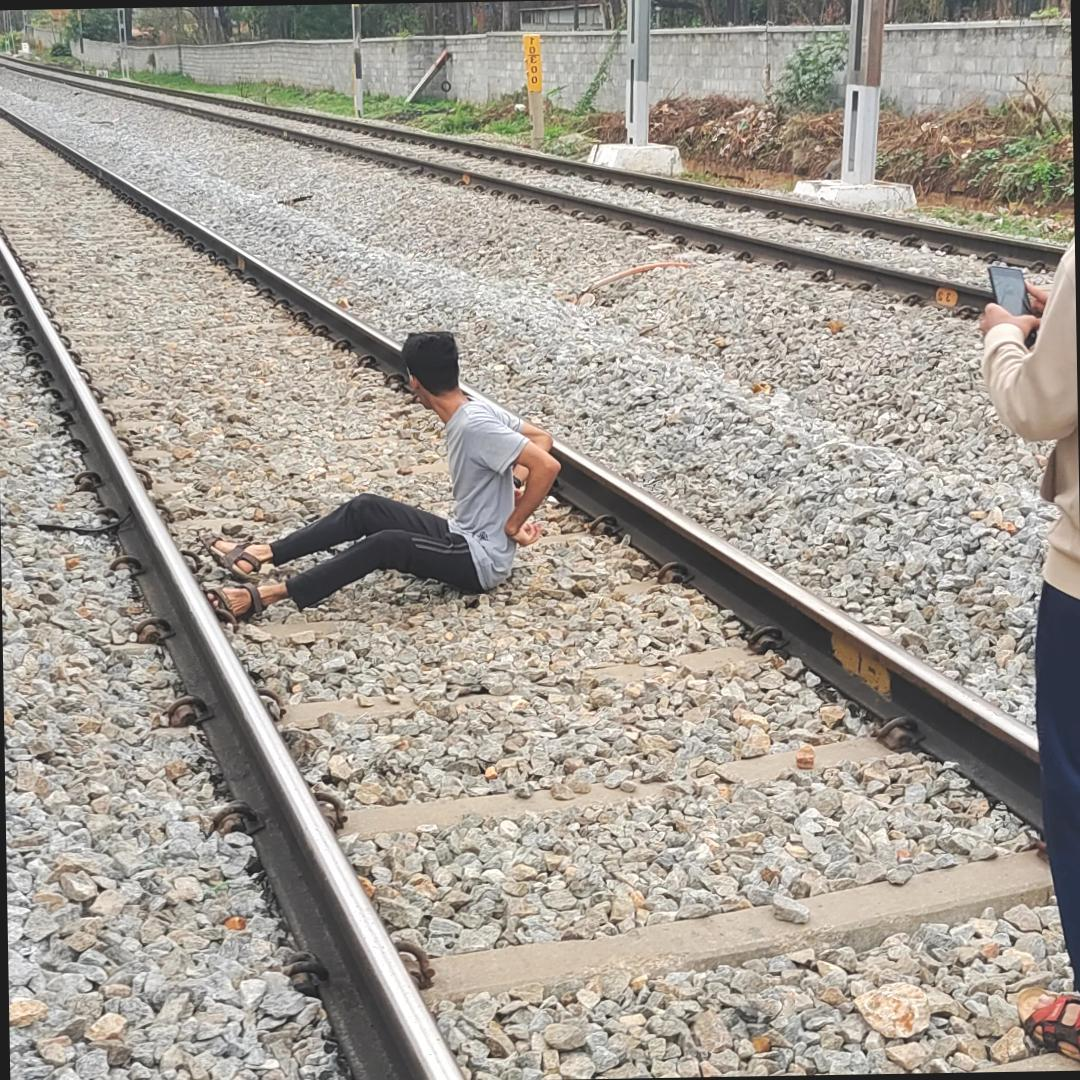sitting: (186, 304, 588, 634)
track: (0, 70, 1080, 1080)
